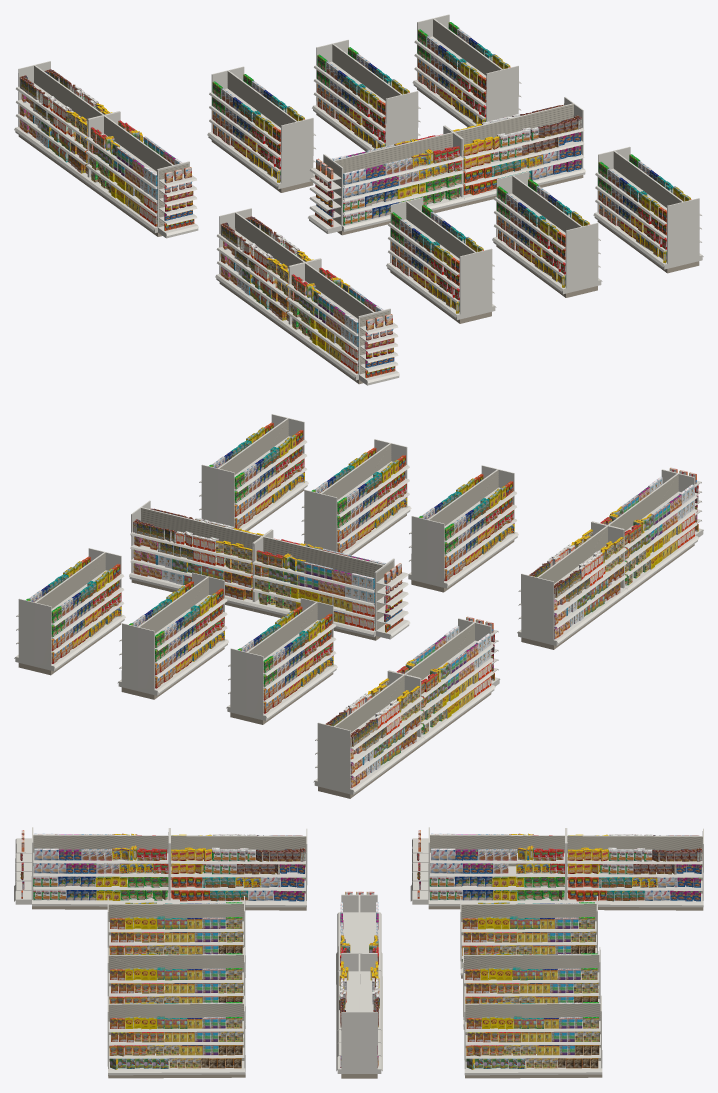
Rendered from aisle_full_export_v2.glb.
3 views of the same model, one above another, from view 1: azimuth 30°, elevation 25°; view 2: azimuth 150°, elevation 25°; view 3: azimuth 270°, elevation 25° (orthographic). The views are drawn at different scales.
Visible parts, largest first — view 1: aisle_4, aisle_8, aisle_9, aisle_3, aisle_1, aisle_2, aisle_7, aisle_5, aisle_6; view 2: aisle_4, aisle_8, aisle_9, aisle_7, aisle_5, aisle_3, aisle_6, aisle_1, aisle_2; view 3: aisle_8, aisle_9, aisle_1, aisle_5, aisle_4, aisle_7, aisle_3, aisle_2, aisle_6.
Part boxes in pixels (x1,y1,x2,y2): aisle_4: (308,97,585,235); aisle_8: (215,208,399,385); aisle_9: (14,61,198,238); aisle_3: (386,197,496,323); aisle_1: (593,146,703,273); aisle_2: (492,171,602,297); aisle_7: (207,66,315,192); aisle_5: (412,14,521,126); aisle_6: (312,39,420,151); aisle_4: (129,500,410,640); aisle_8: (517,467,703,649); aisle_9: (313,616,500,798); aisle_7: (226,597,337,724); aisle_5: (14,548,125,675); aisle_3: (408,465,518,592); aisle_6: (117,572,228,699); aisle_1: (199,414,308,530); aisle_2: (301,439,411,555); aisle_8: (14,827,307,910); aisle_9: (410,827,703,910); aisle_1: (107,995,245,1078); aisle_5: (464,995,602,1078); aisle_4: (336,891,382,1078); aisle_7: (460,896,598,978); aisle_3: (107,896,245,977); aisle_2: (107,947,245,1028); aisle_6: (463,947,600,1029).
Size of what is drawn, in the model's own units: 15.09 by 2.59 by 23.57.
Materials: 9 (7 with a texture image).
